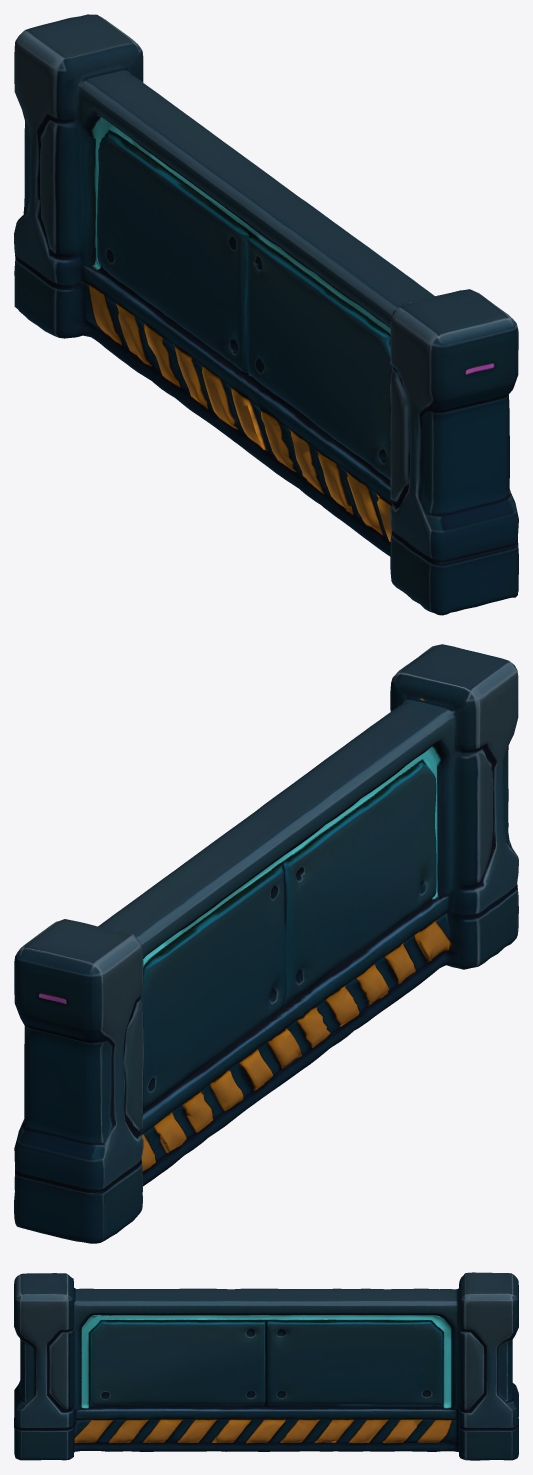
Rendered from Wall.fbx.
3 views of the same model, one above another, from view 1: azimuth 30°, elevation 25°; view 2: azimuth 150°, elevation 25°; view 3: azimuth 270°, elevation 25° (orthographic). The views are drawn at different scales.
Visible parts, largest first — view 1: tripo_node_df1eeff8; view 2: tripo_node_df1eeff8; view 3: tripo_node_df1eeff8.
Boxes of the visible parts, left/top/right/bottom form: tripo_node_df1eeff8: left=14, top=14, right=518, bottom=615; tripo_node_df1eeff8: left=14, top=644, right=518, bottom=1243; tripo_node_df1eeff8: left=14, top=1272, right=518, bottom=1460.
Size of the model in its own units: 0.1226 by 0.3604 by 0.9995.
Materials: 1 (1 with a texture image).
